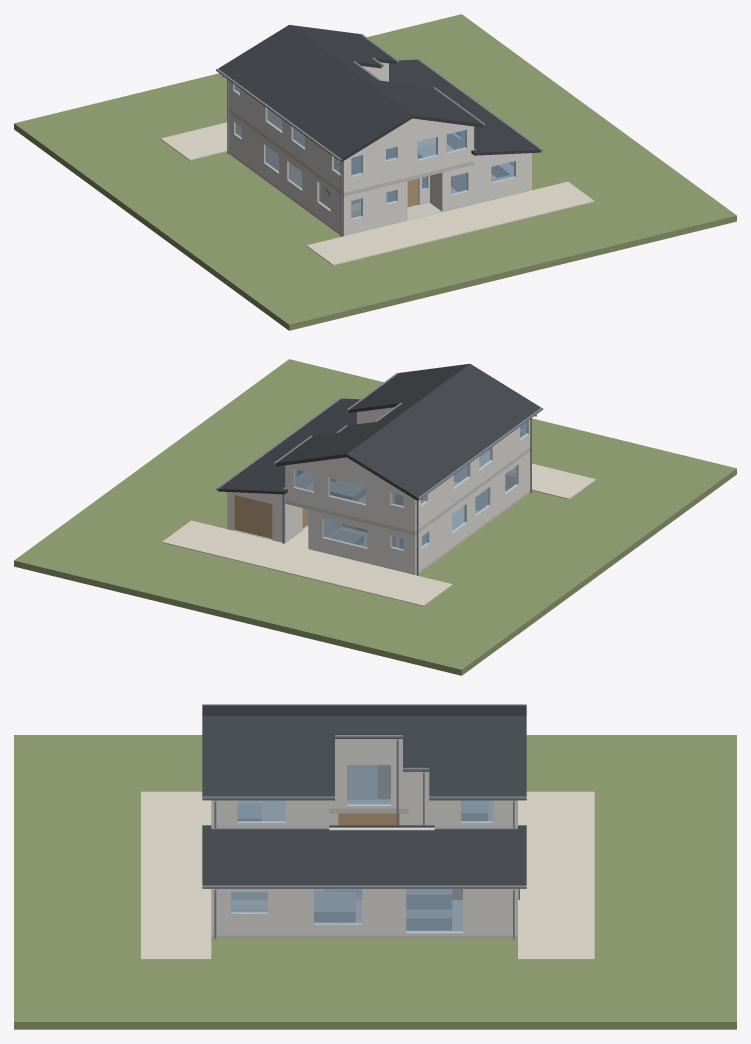
File: casa_v5.obj
3 renders of one model, top to bottom at view 1: azimuth 30°, elevation 25°; view 2: azimuth 150°, elevation 25°; view 3: azimuth 270°, elevation 25°, orthographic. The views are drawn at different scales.
Parts seen in each view (by area): view 1: terreno, cubierta, muro, pavimento, vidrio, losa, canal, madera; view 2: terreno, cubierta, muro, pavimento, vidrio, losa, madera, canal, mueble; view 3: terreno, cubierta, pavimento, muro, vidrio, canal, mueble, losa, madera.
Boxes of the visible parts, <box> form: terreno: <box>14,14,736,330</box>; cubierta: <box>218,25,540,161</box>; muro: <box>229,62,531,235</box>; pavimento: <box>160,122,594,265</box>; vidrio: <box>234,84,515,218</box>; losa: <box>229,109,531,236</box>; canal: <box>216,33,543,236</box>; madera: <box>320,177,451,217</box>; terreno: <box>14,359,736,675</box>; cubierta: <box>218,363,540,500</box>; muro: <box>227,407,530,574</box>; pavimento: <box>162,463,596,606</box>; vidrio: <box>294,421,528,549</box>; losa: <box>227,448,530,575</box>; madera: <box>233,467,515,546</box>; canal: <box>216,372,543,575</box>; mueble: <box>330,480,365,544</box>; terreno: <box>14,735,736,1029</box>; cubierta: <box>202,705,526,885</box>; pavimento: <box>141,791,594,960</box>; muro: <box>211,739,517,935</box>; vidrio: <box>231,765,493,931</box>; canal: <box>202,704,526,939</box>; mueble: <box>231,800,487,930</box>; losa: <box>211,799,517,938</box>; madera: <box>338,765,462,899</box>.
Bounding box in the file's own units: 31 × 7.65 × 33.
